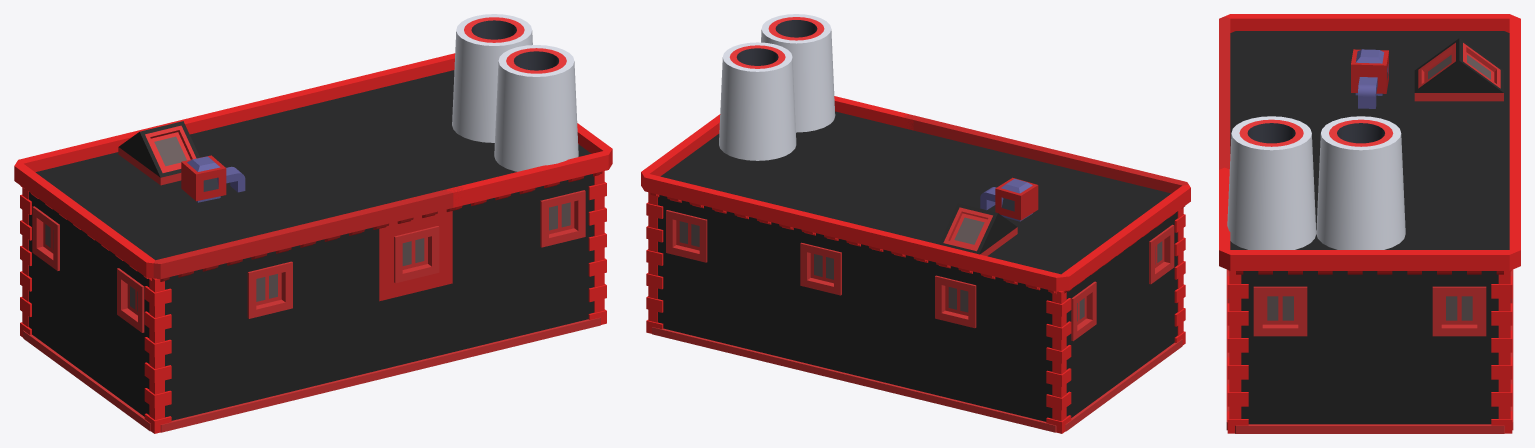
Rendered from garage.fbx.
3 renders of one model, left to right at view 1: azimuth 30°, elevation 25°; view 2: azimuth 150°, elevation 25°; view 3: azimuth 270°, elevation 25°, orthographic. The views are drawn at different scales.
Visible parts, largest first — view 1: mergedBlocks; view 2: mergedBlocks; view 3: mergedBlocks.
Boxes of the visible parts, x1,y1,x2,y2 form: mergedBlocks: (14,14,612,433); mergedBlocks: (641,14,1190,433); mergedBlocks: (1219,14,1520,433).
Size of the model in its own units: 63.75 by 33.9 by 33.75.
